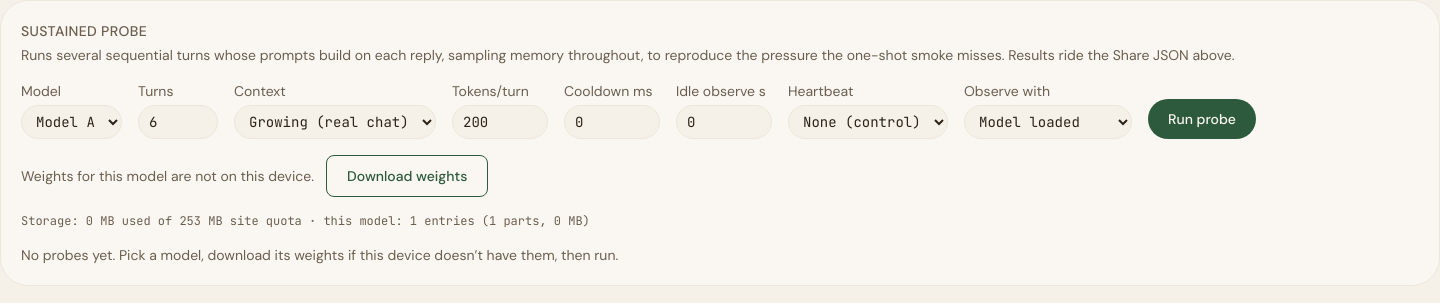
SustainedProbePanel — weights staging › surfaces missing weights and downloads them through the real seam on request
The image size is (1440, 303).
expect the text "Weights for this model are not on this device." is shown: met, box top-left (21, 166), bottom-right (314, 186)
Click the button "Download weights": coordinates (407, 176) top-left (326, 155), bottom-right (488, 197)
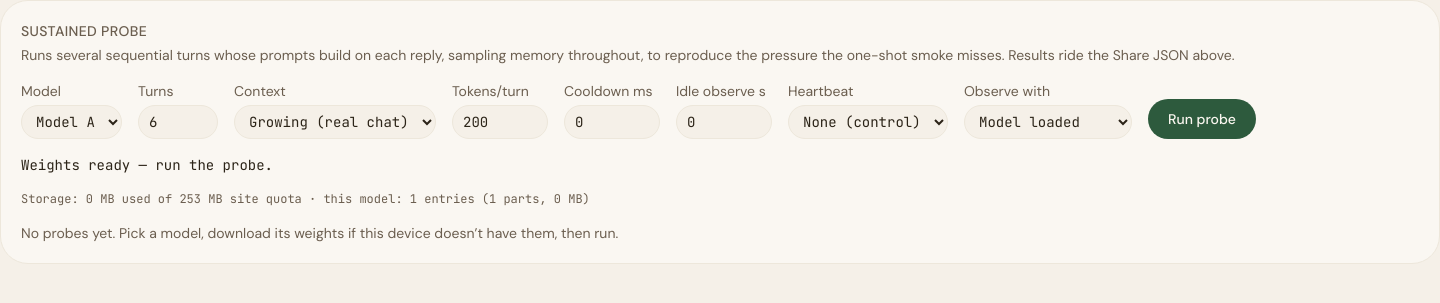
expect the text "Weights ready — run the probe." is shown: met, box top-left (21, 156), bottom-right (273, 174)
expect the button "Download weights" is gone: met
